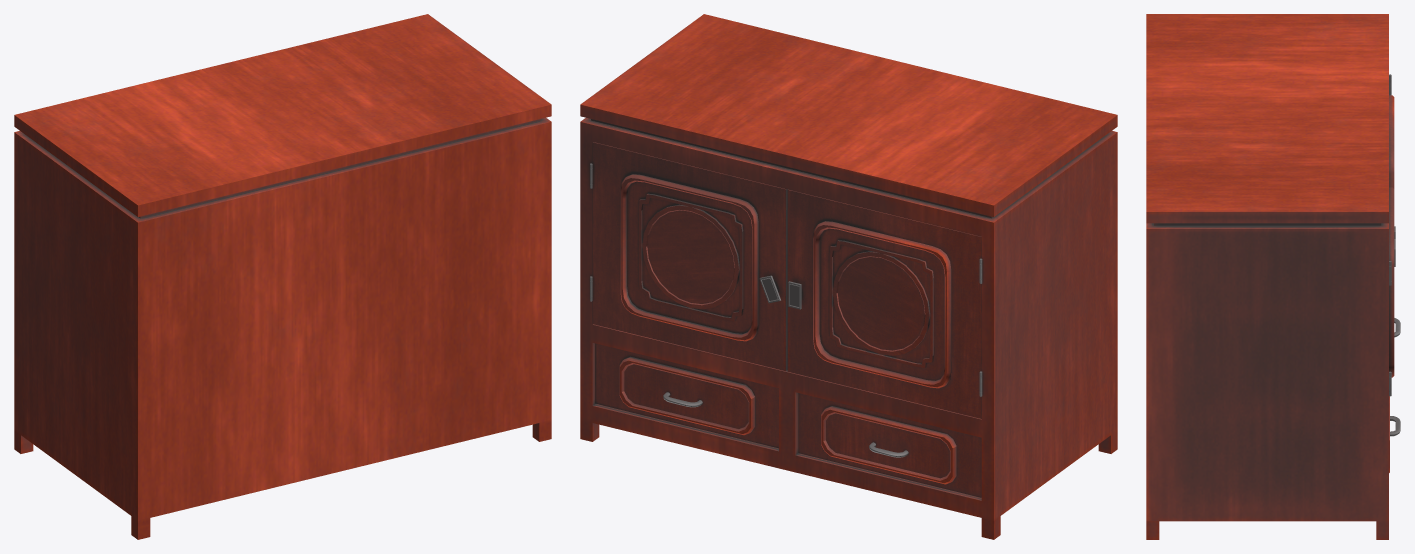
Rendered from SM_Wooden_Drawers2.fbx.
3 views of the same model, side by side, from view 1: azimuth 30°, elevation 25°; view 2: azimuth 150°, elevation 25°; view 3: azimuth 270°, elevation 25° (orthographic).
Parts seen in each view (by area): view 1: SM_Wooden_Drawers2; view 2: SM_Wooden_Drawers2; view 3: SM_Wooden_Drawers2.
Part boxes in pixels (x1=…): SM_Wooden_Drawers2: x1=14, y1=14, x2=551, y2=539; SM_Wooden_Drawers2: x1=580, y1=14, x2=1117, y2=539; SM_Wooden_Drawers2: x1=1146, y1=14, x2=1400, y2=539.
Size of the model in its own units: 89.38 by 48.54 by 69.05.
1 material, 1 textured.
